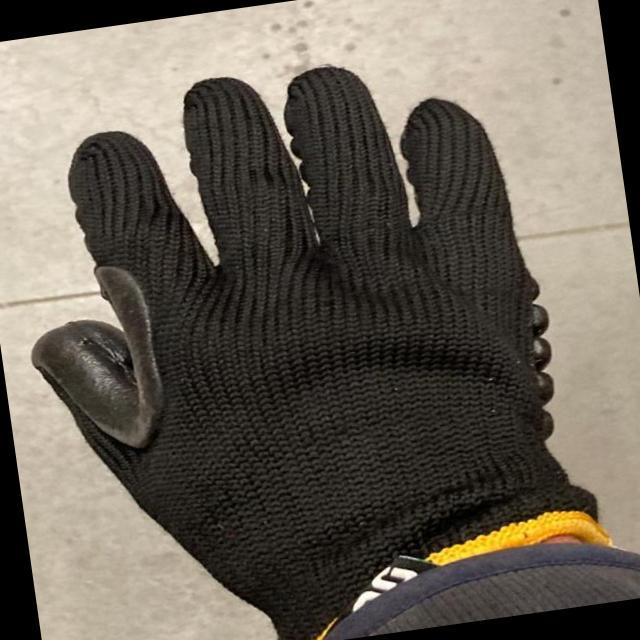glove: (34, 70, 598, 639)
